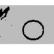no answer: (21, 18, 45, 42)
